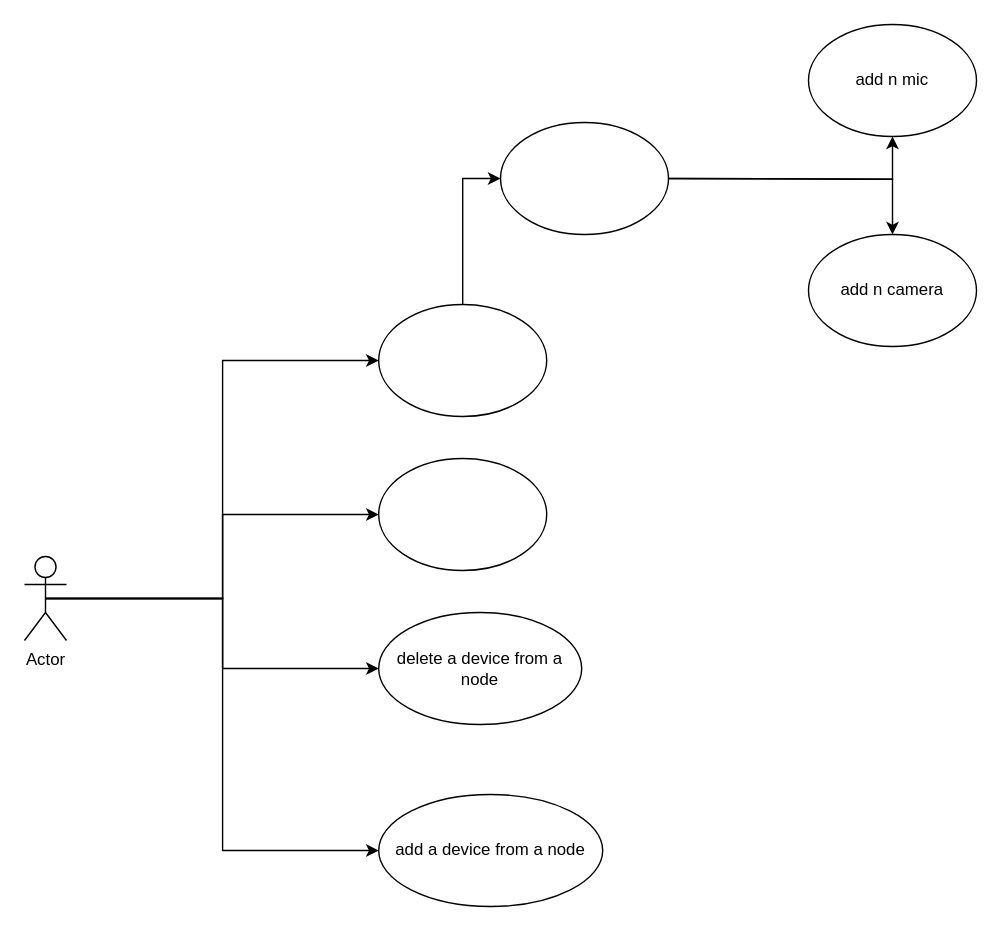
Image size: 1001x931. Some labels were removed from this diagram. Here are the shapes that lost their labels. From the top down, the centre of each, then its label:
At point 583,177: "add a node".
At point 462,359: "view all nodes".
At point 462,513: "delete a node".
